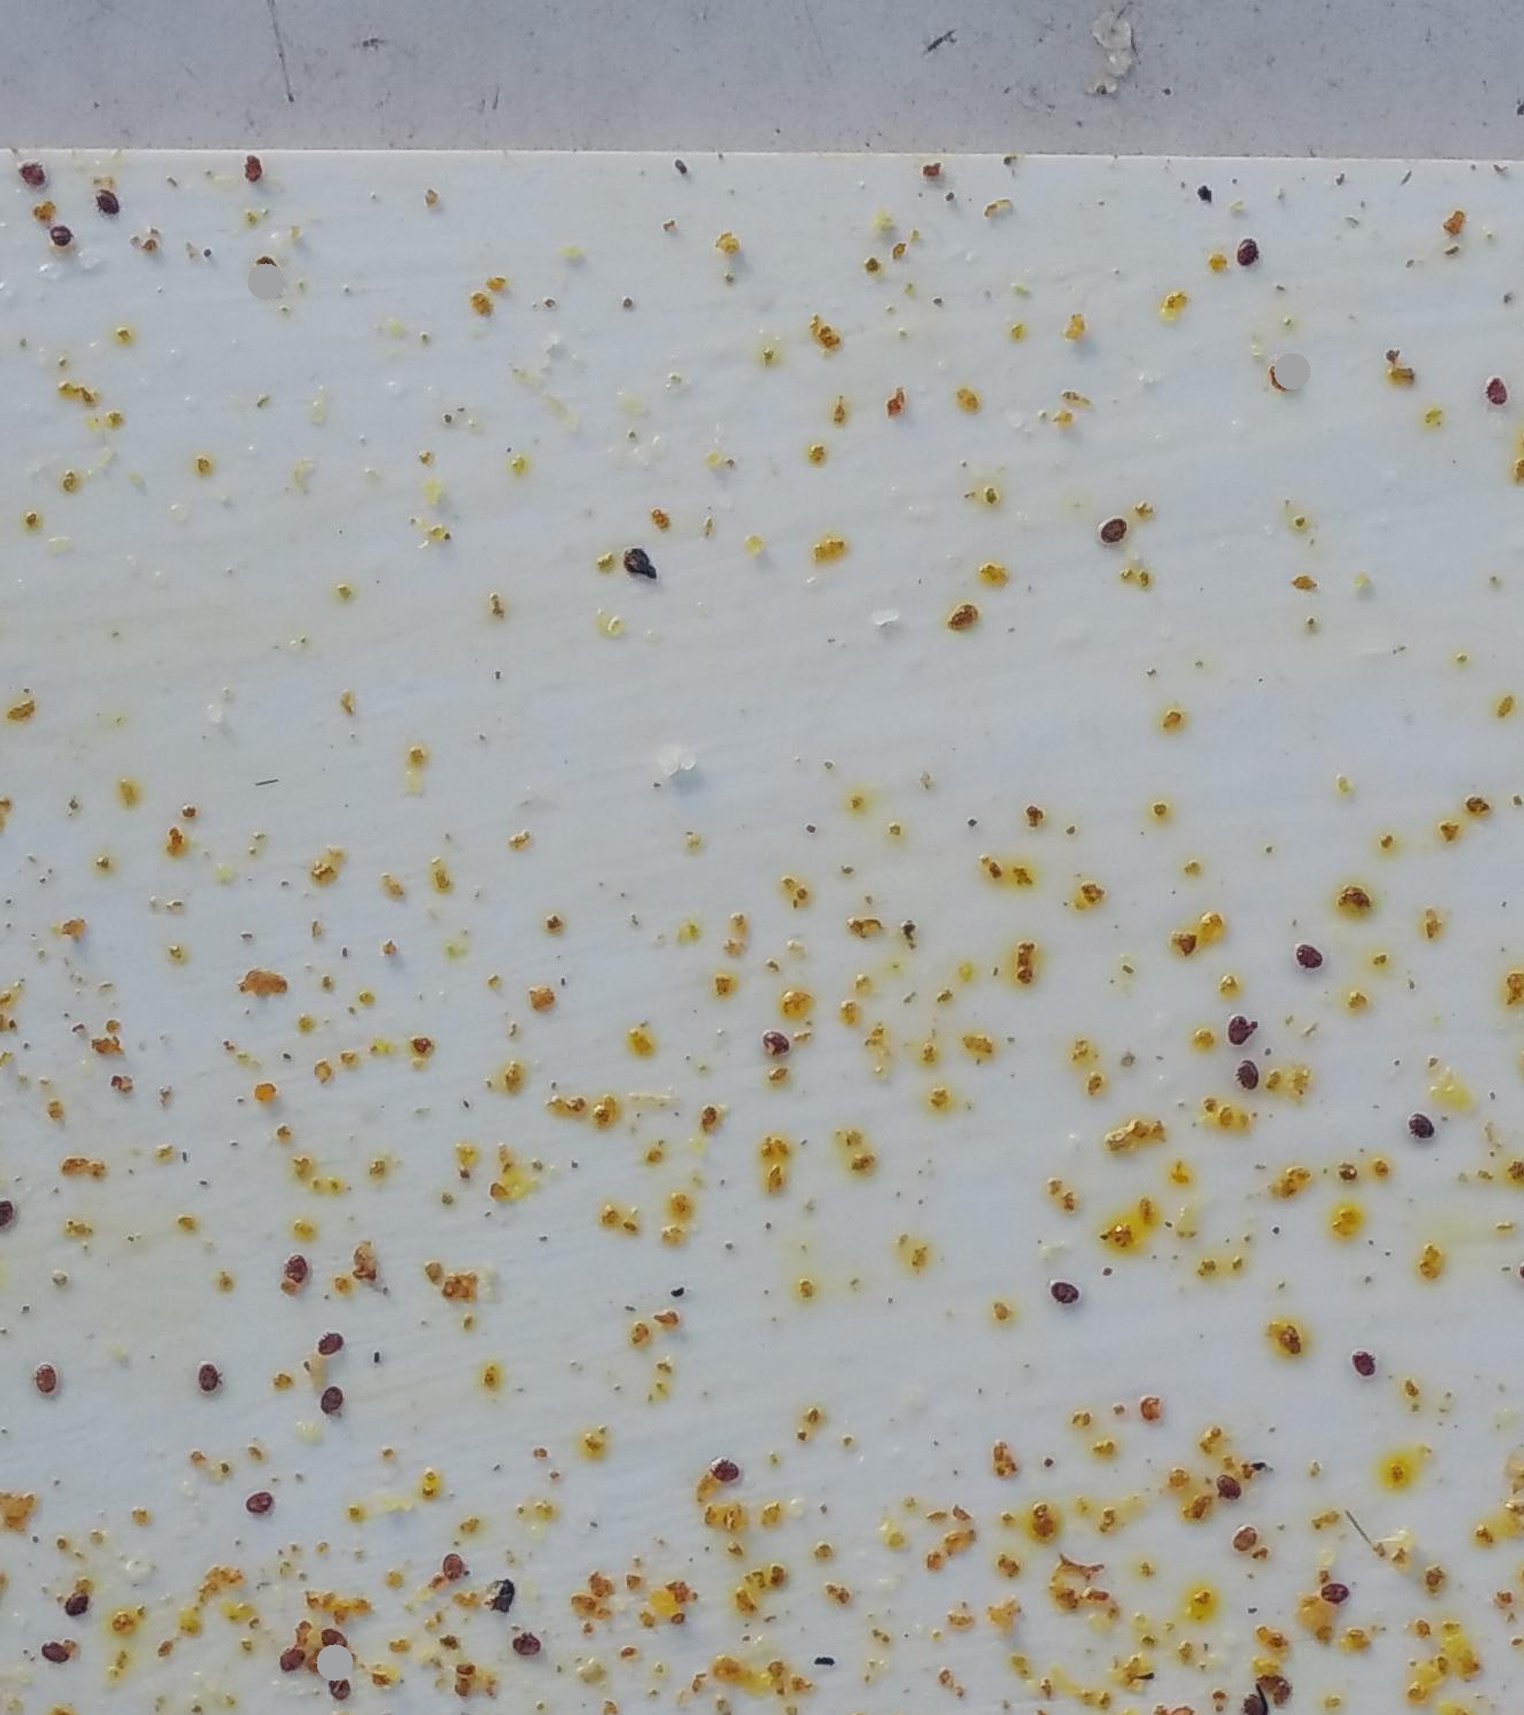Varroa: (25, 1358, 62, 1393), (1402, 1105, 1439, 1140), (1225, 1010, 1256, 1052), (243, 1483, 277, 1516), (1481, 374, 1514, 407), (44, 222, 75, 257), (190, 1361, 222, 1393), (1236, 1060, 1267, 1094), (1046, 1281, 1077, 1313), (1347, 1347, 1378, 1380), (279, 1253, 310, 1286), (1097, 513, 1128, 544), (15, 159, 46, 190), (315, 1327, 346, 1358), (96, 182, 125, 215), (706, 1458, 736, 1488), (319, 1384, 349, 1415), (44, 1637, 74, 1668), (1233, 238, 1261, 271), (512, 1633, 541, 1662), (762, 1031, 791, 1060), (1295, 940, 1324, 969), (277, 1643, 305, 1672), (319, 1628, 347, 1658), (441, 1552, 469, 1580), (1218, 1472, 1245, 1500), (1228, 1530, 1255, 1556), (330, 1674, 355, 1700), (63, 1589, 87, 1614), (1321, 1583, 1343, 1608)
